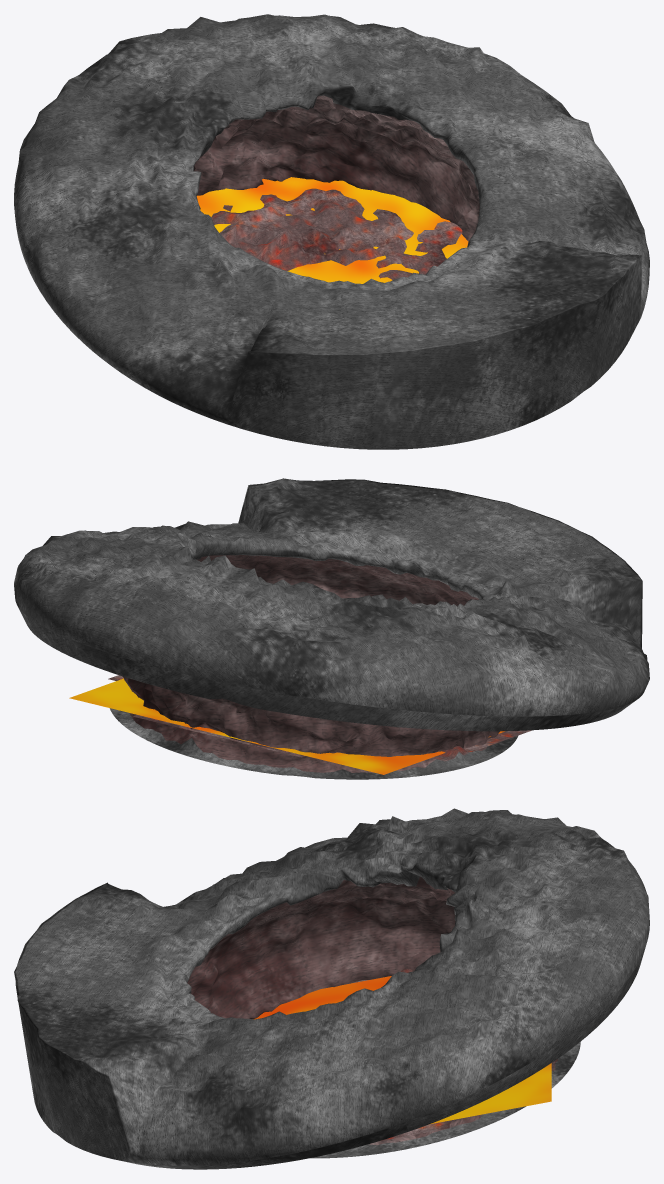
File: 307_bg_vegaB.fbx
3 renders of one model, top to bottom at view 1: azimuth 30°, elevation 25°; view 2: azimuth 150°, elevation 25°; view 3: azimuth 270°, elevation 25°, orthographic.
Visible parts, largest first — view 1: pCylinder3, pPlane1, pPlane2; view 2: pCylinder3, pPlane2, pPlane1; view 3: pCylinder3, pPlane2.
Boxes of the visible parts, <box> form: pCylinder3: <box>14,14,649,449</box>; pPlane1: <box>211,188,462,280</box>; pPlane2: <box>196,177,468,283</box>; pCylinder3: <box>14,478,649,779</box>; pPlane2: <box>69,678,504,774</box>; pPlane1: <box>108,675,531,761</box>; pCylinder3: <box>14,808,649,1169</box>; pPlane2: <box>253,976,551,1124</box>.
Size of the model in its own units: 4944 by 1840 by 4814.
